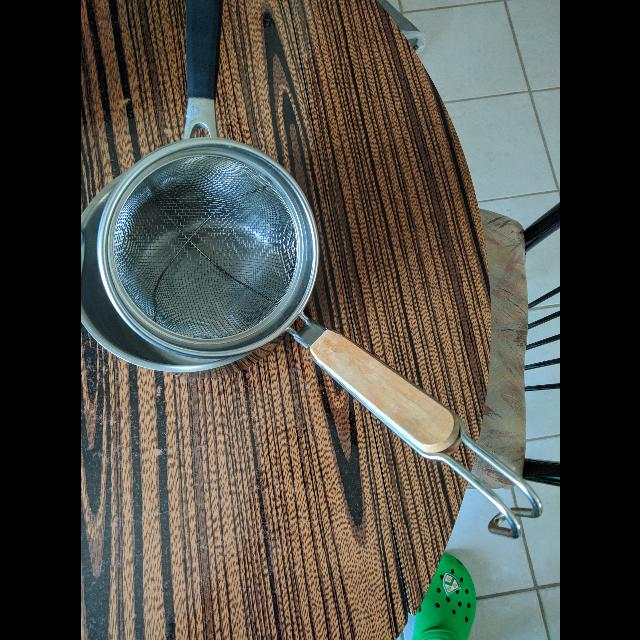Handle: (291, 307, 550, 559)
Strainer: (94, 134, 330, 355)
